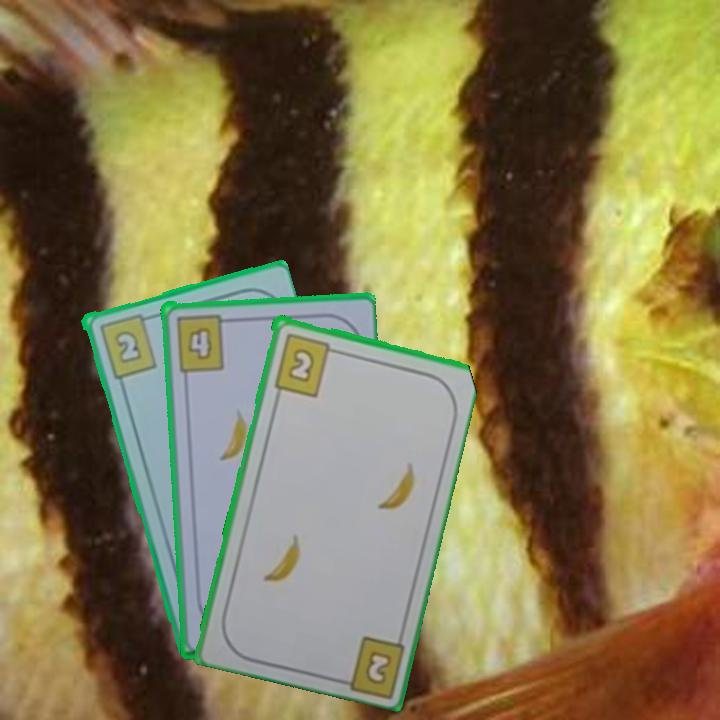2b: (270, 329, 341, 399), (95, 310, 159, 381), (361, 646, 395, 687)
4b: (172, 310, 235, 374)
